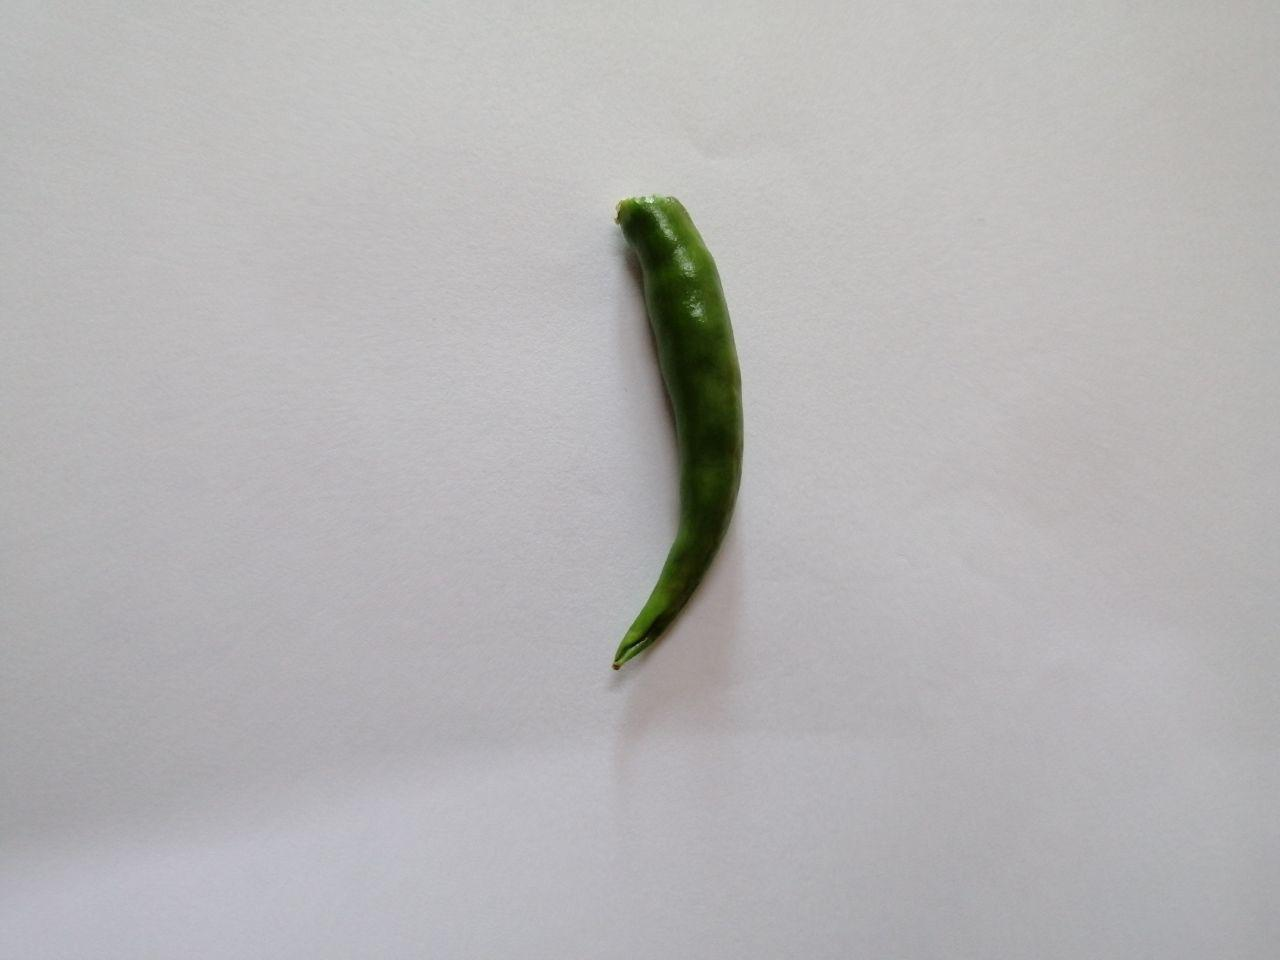lada hijau: (600, 178, 752, 690)
